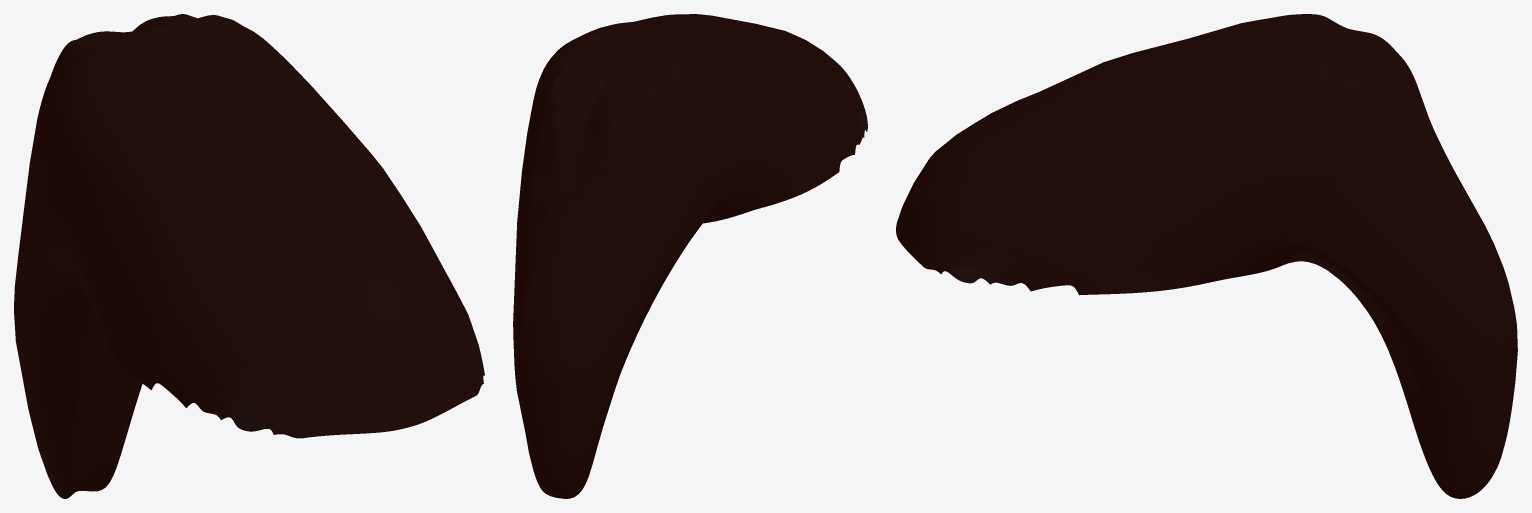
Rendered from front07.dae.
3 views of the same model, side by side, from view 1: azimuth 30°, elevation 25°; view 2: azimuth 150°, elevation 25°; view 3: azimuth 270°, elevation 25° (orthographic). The views are drawn at different scales.
Parts seen in each view (by area): view 1: Body; view 2: Body; view 3: Body.
Part boxes in pixels (x1=…): Body: x1=14, y1=14, x2=484, y2=498; Body: x1=513, y1=14, x2=867, y2=498; Body: x1=896, y1=14, x2=1517, y2=498.
Bounding box in the file's own units: 15.3 × 32 × 26.01.
